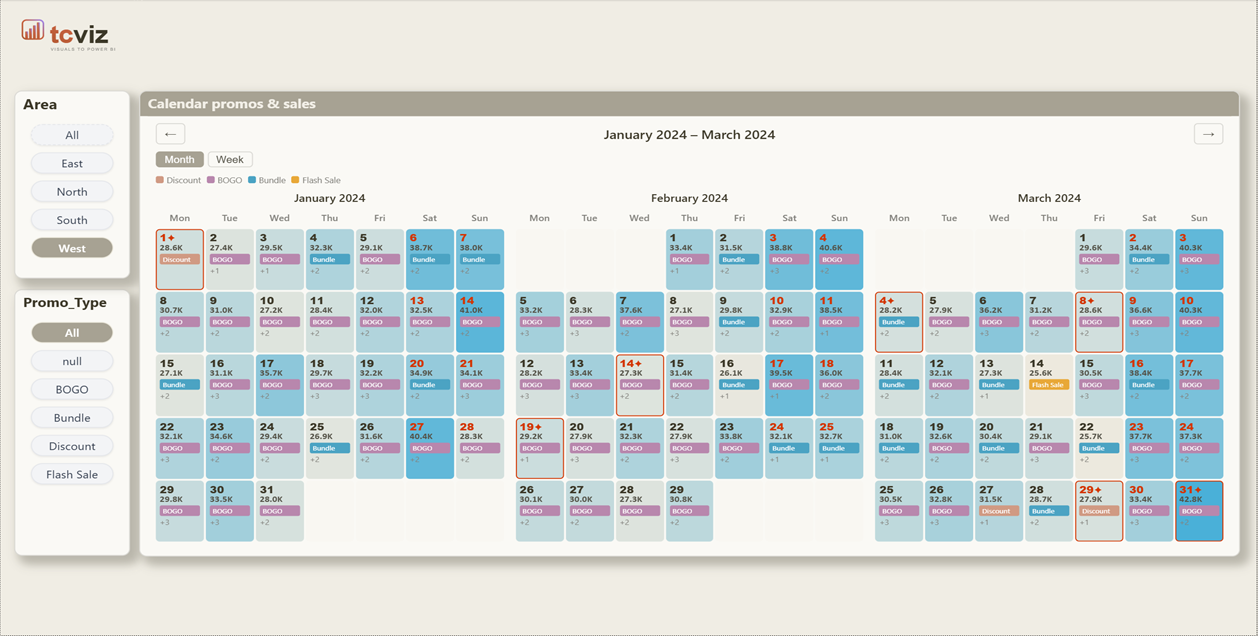

The dashboard page shown, as its layout file describes it:
{"tool":"powerbi","page":{"name":"Duplicate of Calendar","canvas":[1280,720],"ordinal":0},"visuals":[{"type":"image","box":[13.9,5.4,118.4,67.7],"z":0},{"type":"chipSlicerFree","fields":{"category":["sample_sales.Promo_Type"]},"box":[13.9,328.4,118.7,377.9],"z":1000},{"type":"chipSlicerFree","fields":{"category":["sample_sales.Area"]},"box":[14.1,102.6,118.4,212.6],"z":2000},{"type":"calendarTCViz022303184F264C8B9ACE6A13E838FFEB_test","title":"Calendar promos & sales","fields":{"date":["sample_sales.Date"],"holidayName":["sample_sales.Holiday_Name"],"eventName":["sample_sales.Promo_Type"],"eventCategory":["sample_sales.Promo_Type"],"mainMeasure":["Sum(sample_sales.Sales_Value)"],"secondaryMeasures":["Sum(sample_sales.Units)","Avg(sample_sales.Units)"]},"box":[148.2,102.4,1116.1,603.8],"z":3000}]}

Visuals, with their boxes on the page's 1280x720 design canvas (x1, y1, x2, y2). These are canvas units, not pixel positions in the 1258x636 screenshot, which may show the page scaled, cropped or inside an application window:
image: rect(14, 5, 132, 73)
chipSlicerFree - sample_sales.Promo_Type: rect(14, 328, 133, 706)
chipSlicerFree - sample_sales.Area: rect(14, 103, 132, 315)
"Calendar promos & sales" calendarTCViz022303184F264C8B9ACE6A13E838FFEB_test: rect(148, 102, 1264, 706)
